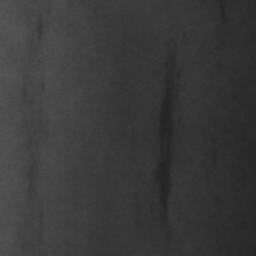Inclusion: (154, 69, 175, 215)
